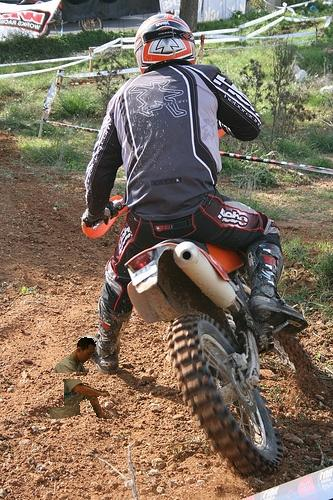tampered: (50, 338, 112, 419)
